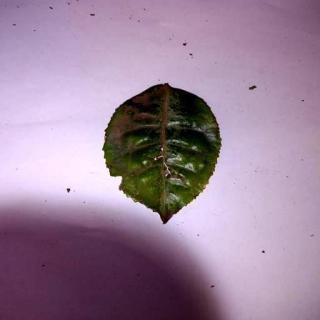Anthracnose: (104, 81, 224, 223)
